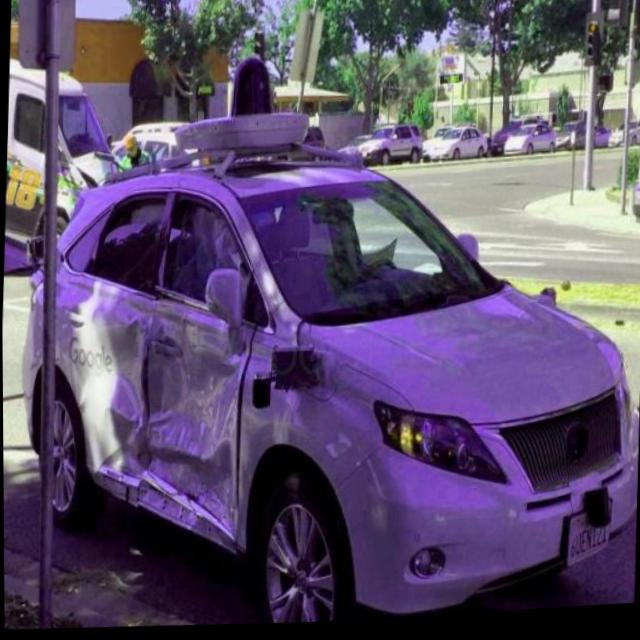Car-Damage: (71, 269, 250, 558)
